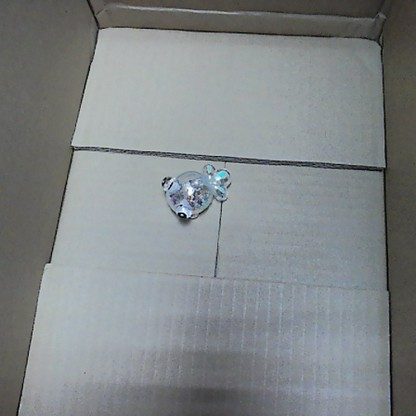whitefish: (158, 160, 230, 224)
